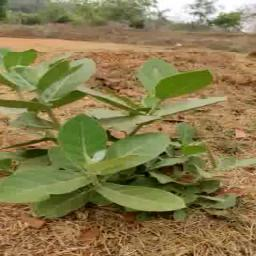CALOTROPIS: (0, 52, 237, 222)
